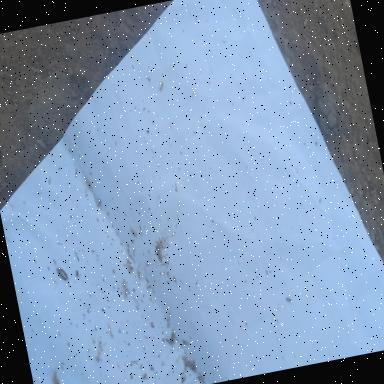pbw: (56, 265, 68, 282), (286, 296, 292, 302)
